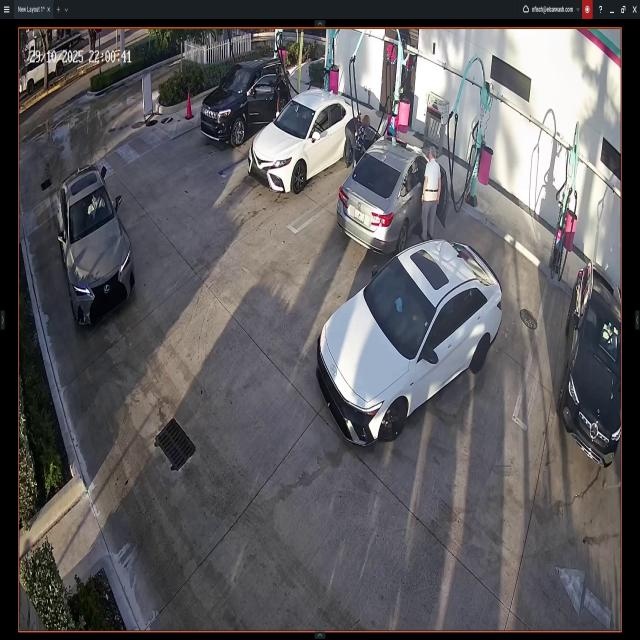Car: (318, 246, 502, 449), (335, 126, 448, 249), (52, 158, 134, 326), (248, 92, 361, 192), (572, 261, 618, 468), (193, 57, 290, 146)
